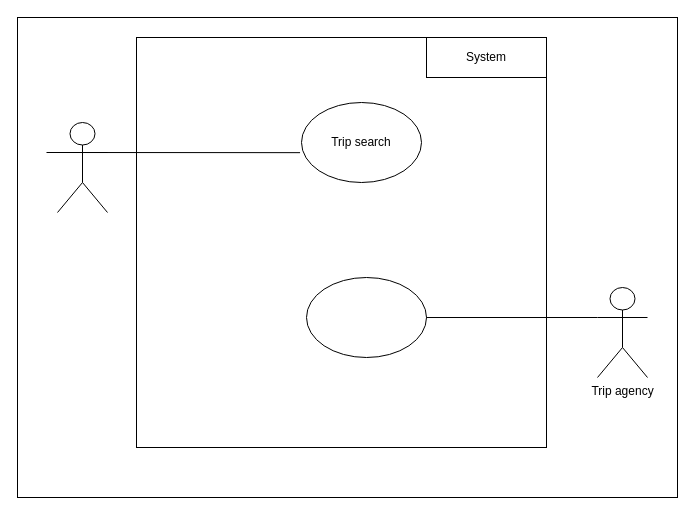
This 695x515 diagram has some shape labels left out. Each missing label, with the box of its shape:
Trip insertion: (306, 276, 426, 358)
Trip searcher: (56, 122, 108, 212)
